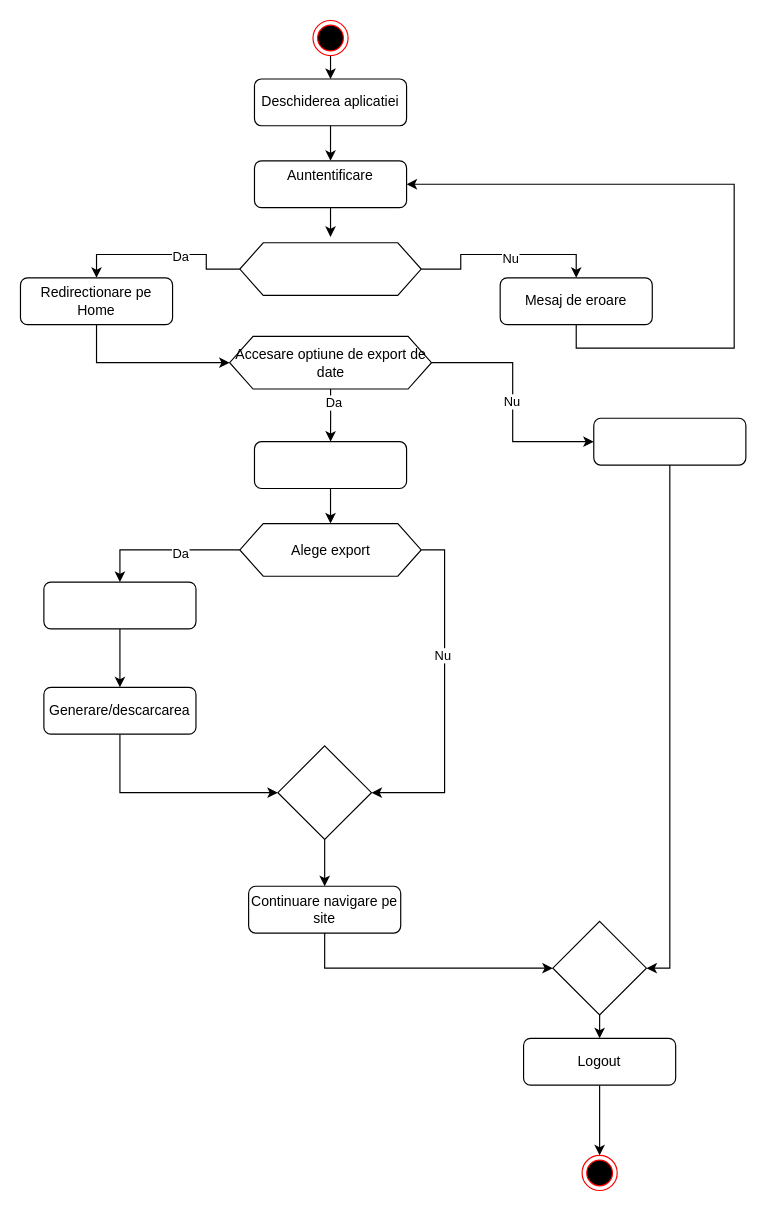
The diagram is 766 pixels wide and 1211 high, and some of its shapes have lost their labels. The shapes that lost their labels are listed below. From the top down, each one's centre as x and y in pixels, then its label:
At [330,268]: "Auntentificare reusita/ca admin".
At [669,441]: "Navigare pe site".
At [330,464]: "Afisare optiuni".
At [119,605]: "Selectare format PDF/EXCEL".
